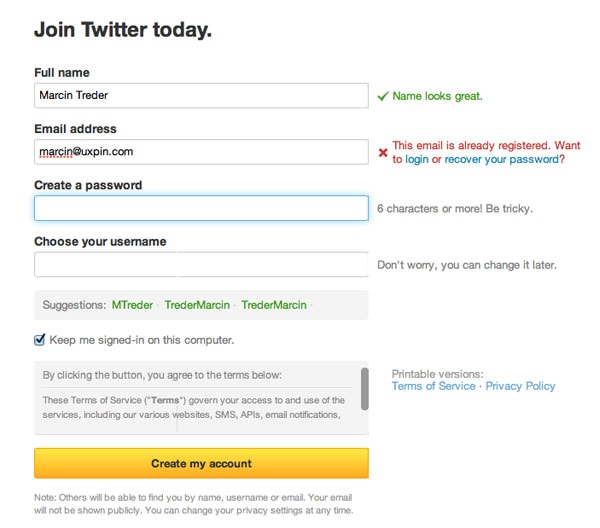error_message: (393, 138, 582, 166)
